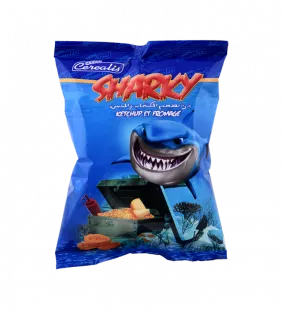STARSKY: (43, 34, 237, 277)
